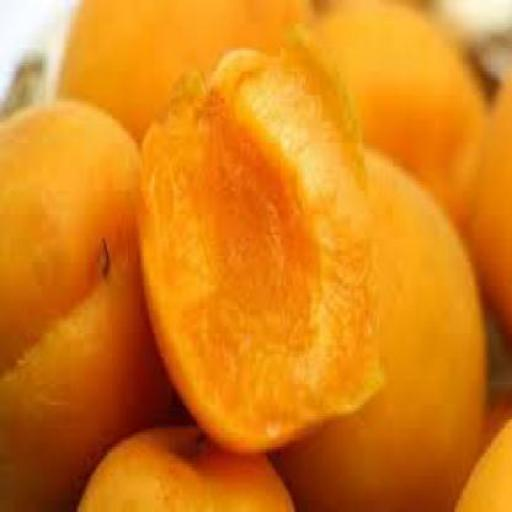biodegradable: (135, 21, 384, 449), (270, 149, 484, 509), (0, 94, 167, 509), (307, 1, 486, 217), (54, 0, 317, 140), (76, 420, 292, 509), (444, 54, 510, 339), (451, 408, 510, 509)
